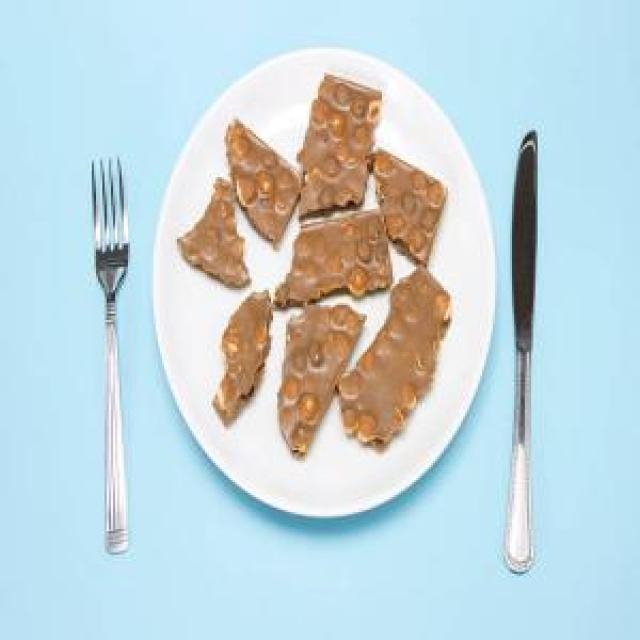knife: (503, 130, 542, 570)
